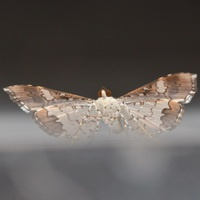insect: (3, 73, 196, 139)
